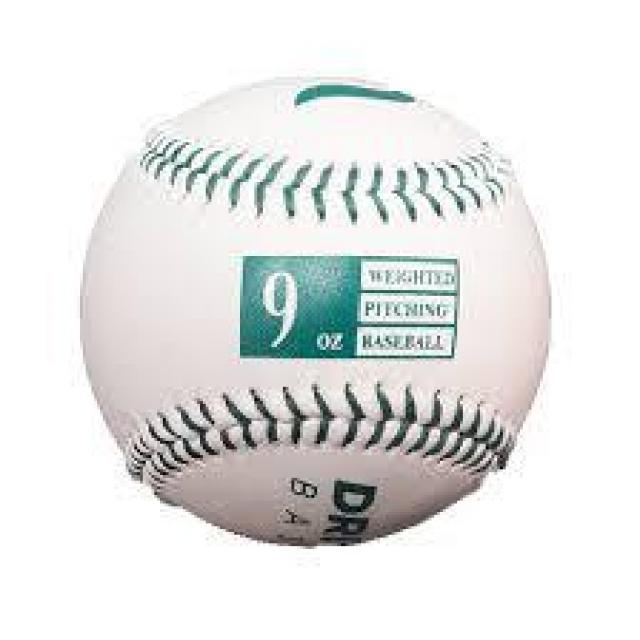baseball: (80, 68, 551, 546)
